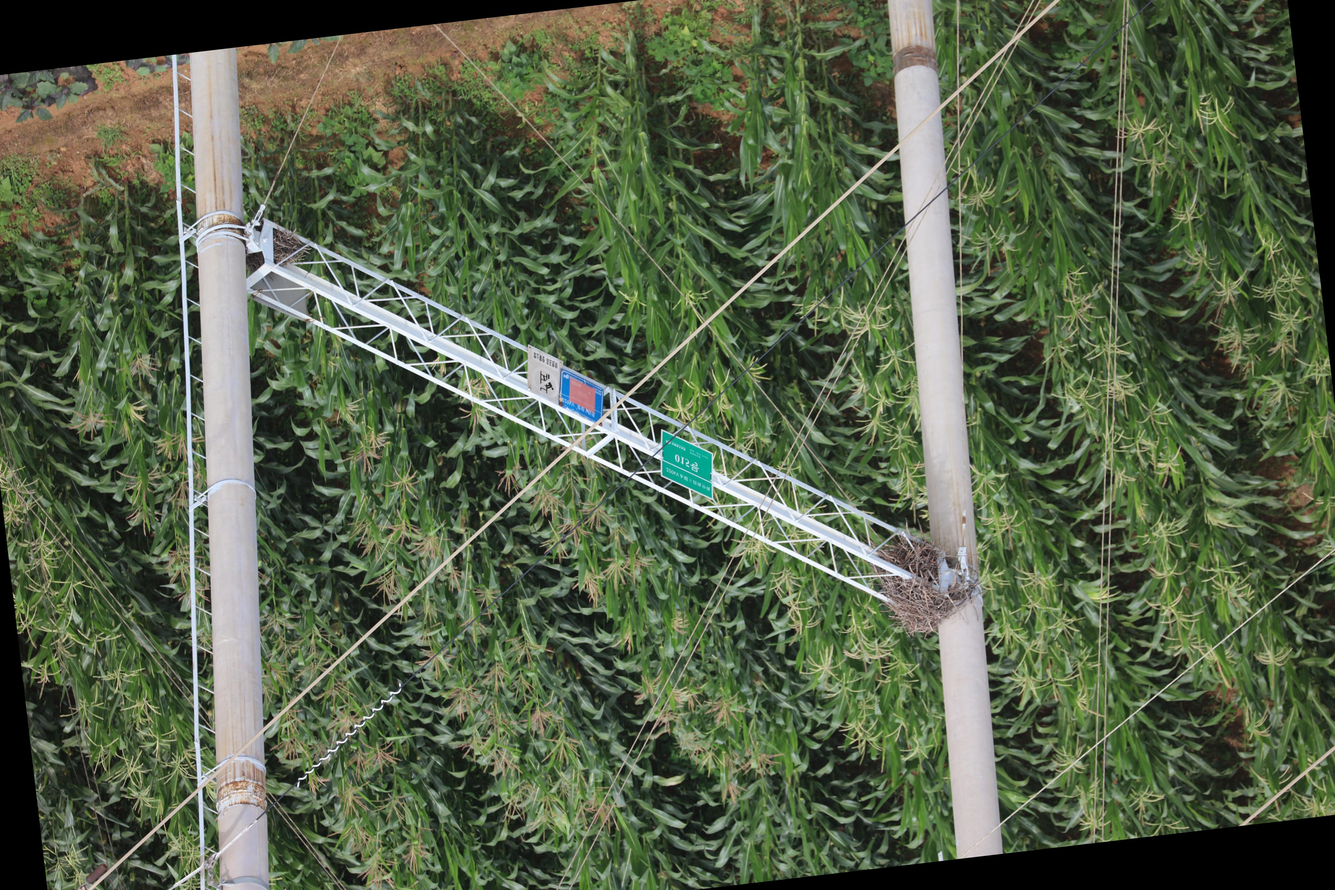damper_defect: (50, 860, 114, 890)
